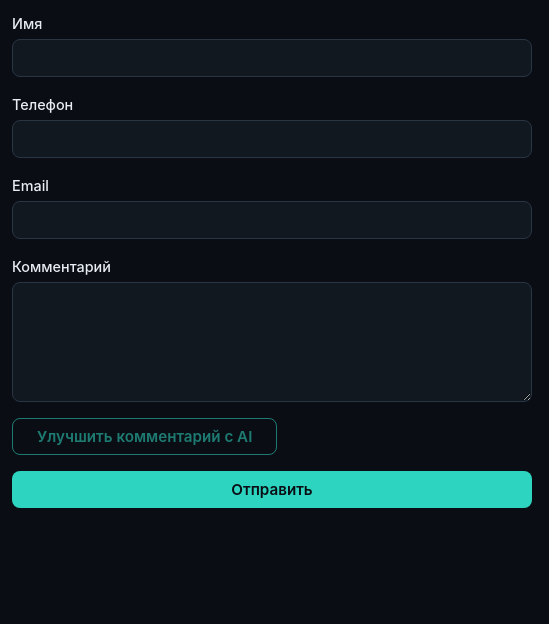
Scenario: ContactForm › shows success state after submit
Type "Артем Репин" into the field labelled "Имя" at [272, 58], box [12,39,532,77]
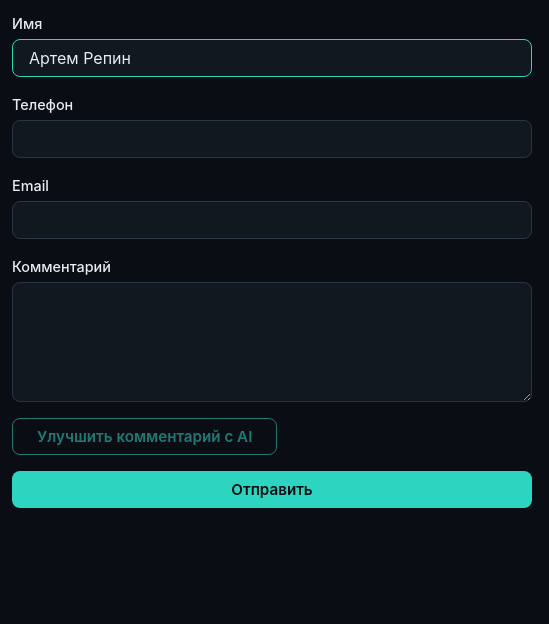
Type "+7 999 123 45 67" into the field labelled "Телефон" at [272, 139], box [12,120,532,158]
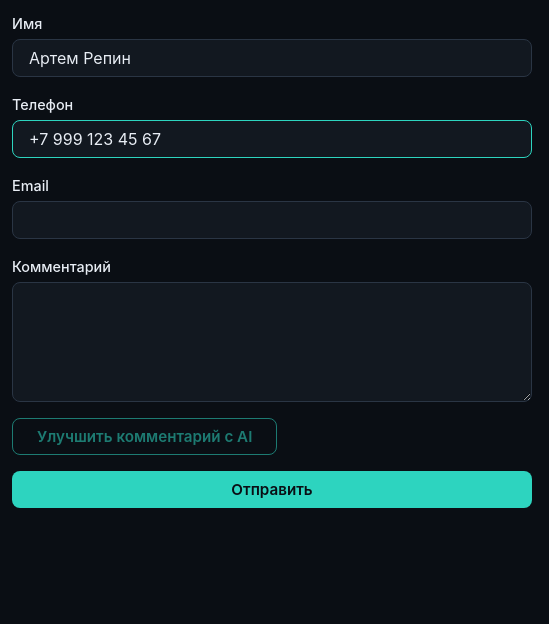
Type "test@example.com" into the field labelled "Email" at [272, 220], box [12,201,532,239]
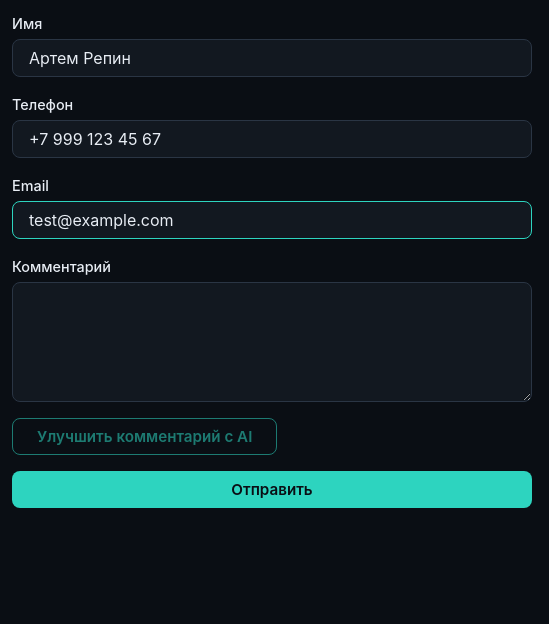
Type "Достаточно длинный комментарий для формы" into the text box labelled "Комментарий" at [272, 342], box [12,282,532,402]
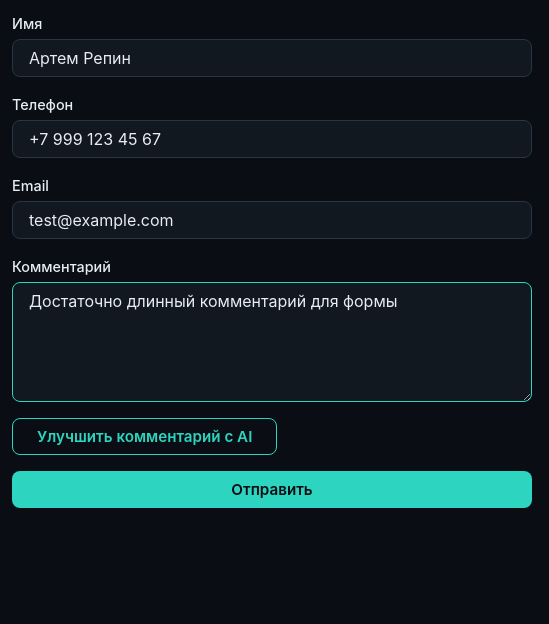
Click the button "Отправить" at [272, 490], box [12,471,532,508]
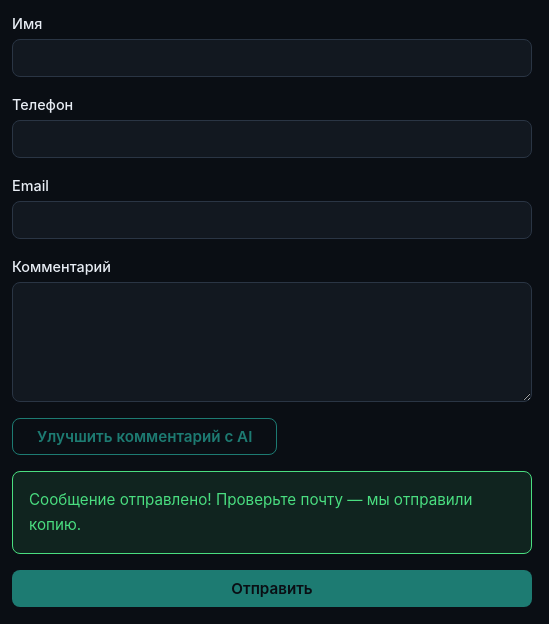
Now the message shows "отправлено", box [29,490,472,534]
